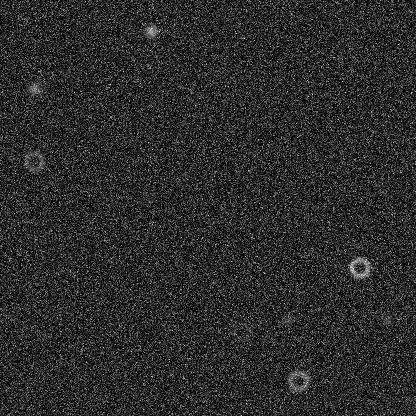Ring: (286, 368, 310, 392), (229, 319, 253, 343), (347, 255, 371, 279), (22, 149, 46, 173)
Spot: (279, 311, 295, 327), (26, 80, 42, 96), (379, 312, 395, 328), (34, 328, 50, 344), (143, 23, 159, 39)
